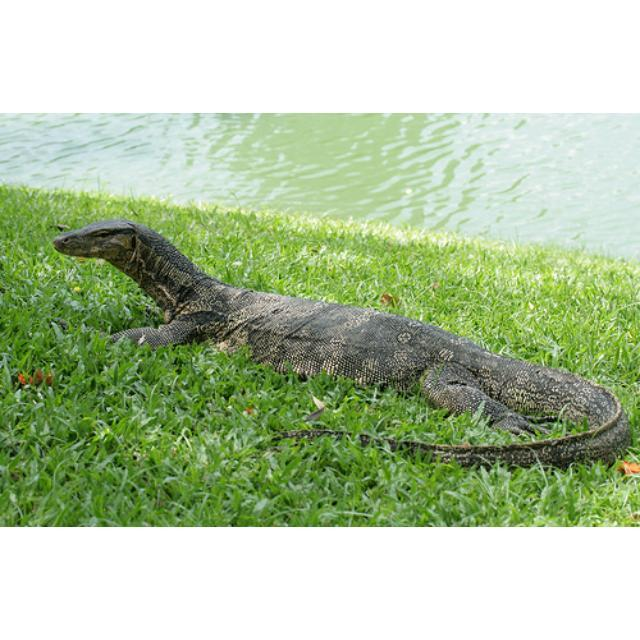KomodoDragon: (55, 219, 637, 476)
